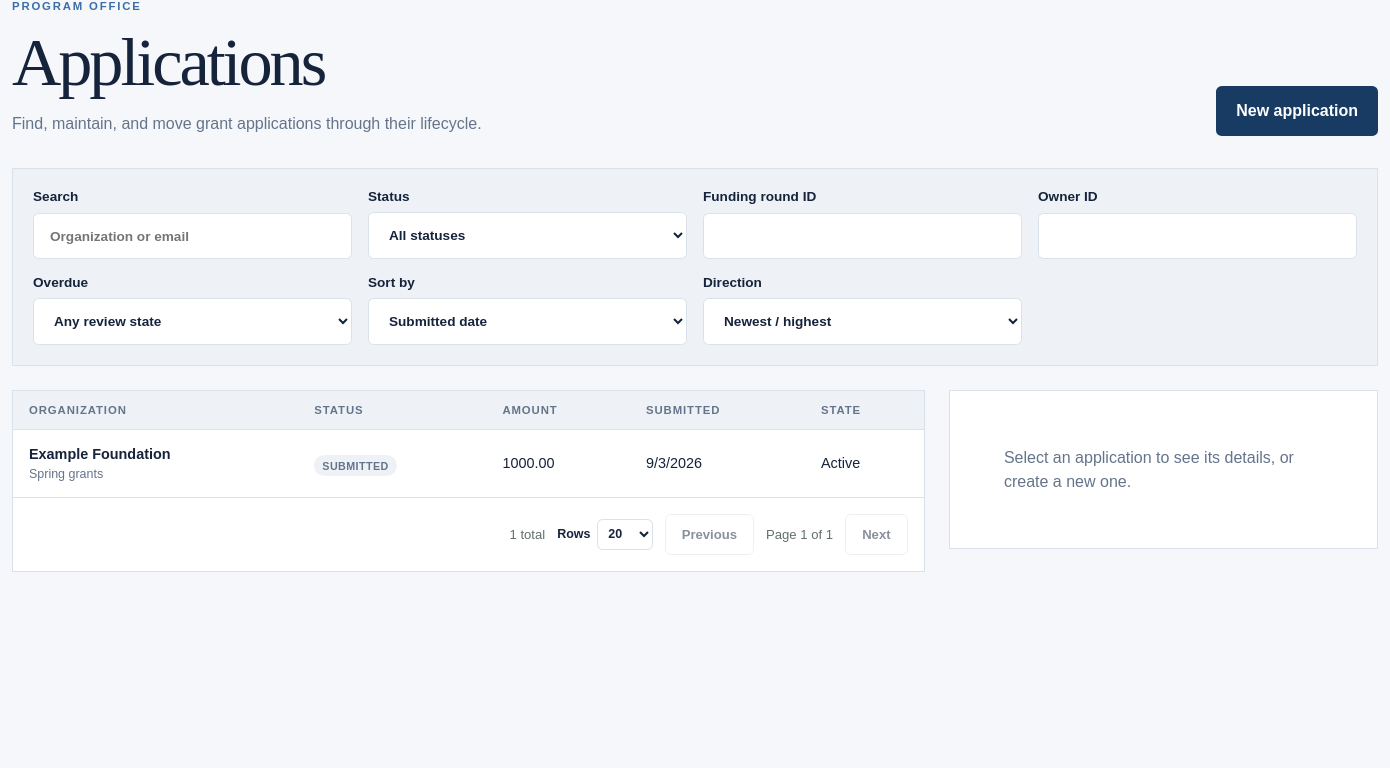
Test case: Program Officer assignment management › renders assignment list details including reviewer identity, due date, and removed history state
Click the button "Example Foundation" at (100, 454), box [29,446,170,462]
(page scrolled)
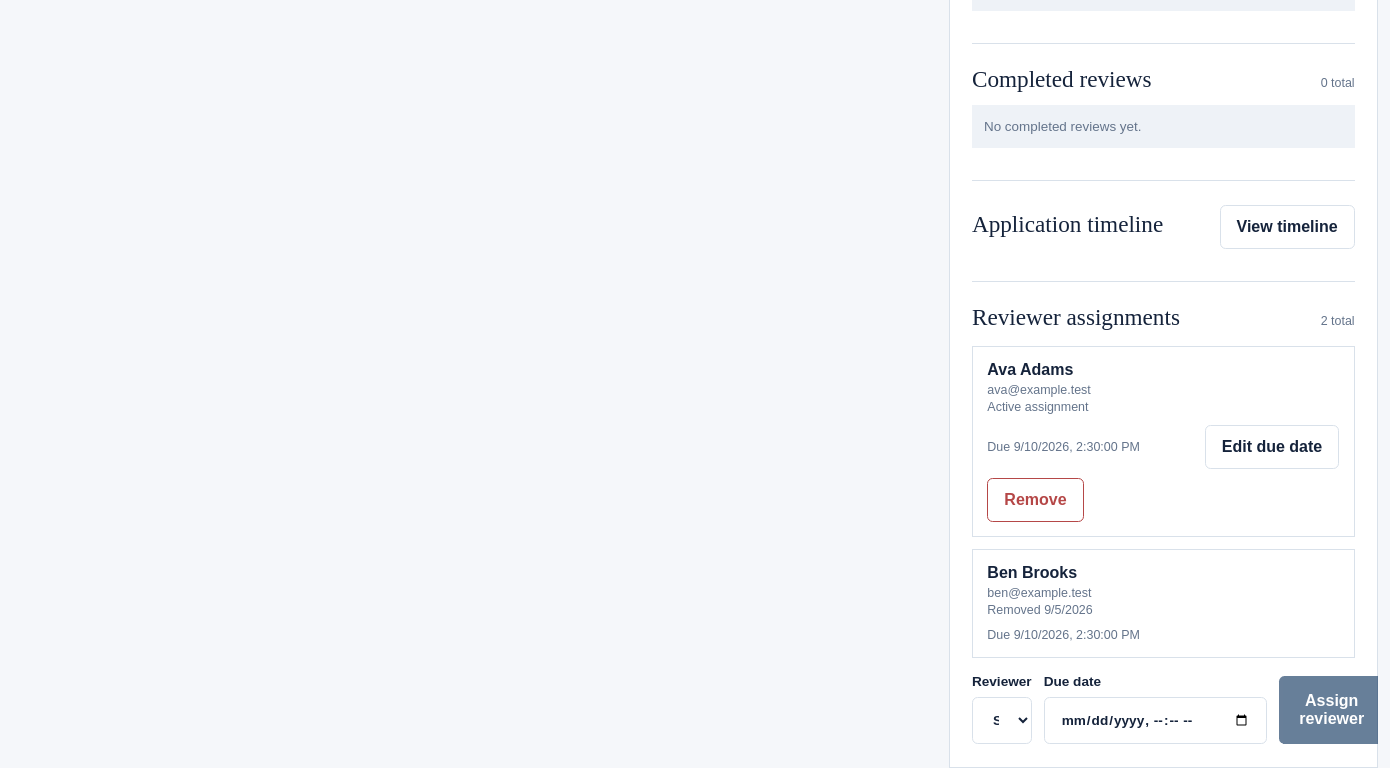
Expected: the text "Ava Adams" is shown, [987,361,1073,378]
Expected: the text "ava@example.test" is shown, [987,382,1091,396]
Expected: the text "Removed 9/5/2026" is shown, [987,603,1093,617]
